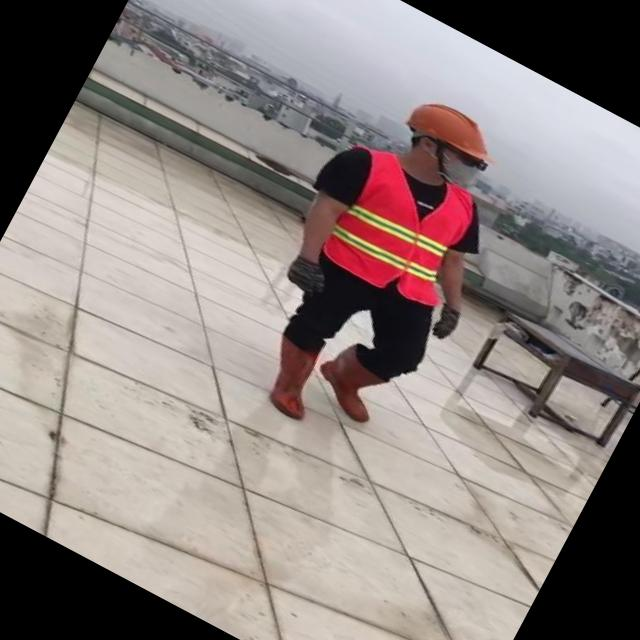hard_hat: (396, 82, 511, 172)
safety_vest: (307, 140, 492, 317)
vehicle: (208, 59, 557, 471)
work_boots: (307, 336, 398, 426), (249, 334, 334, 422)
